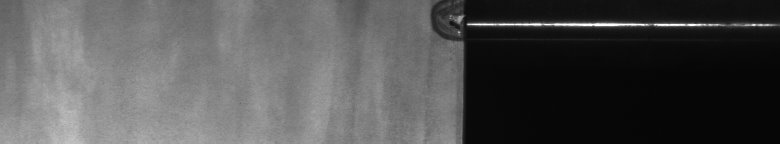hb: (418, 4, 452, 136)
